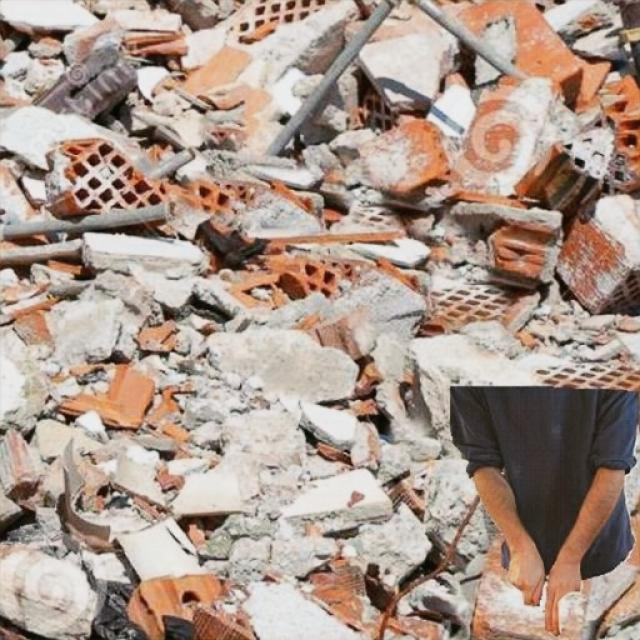Person in Rubble: (448, 386, 638, 635)
